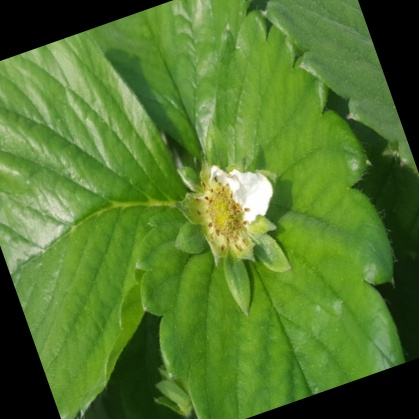Blossom_BT: (193, 177, 250, 263)
